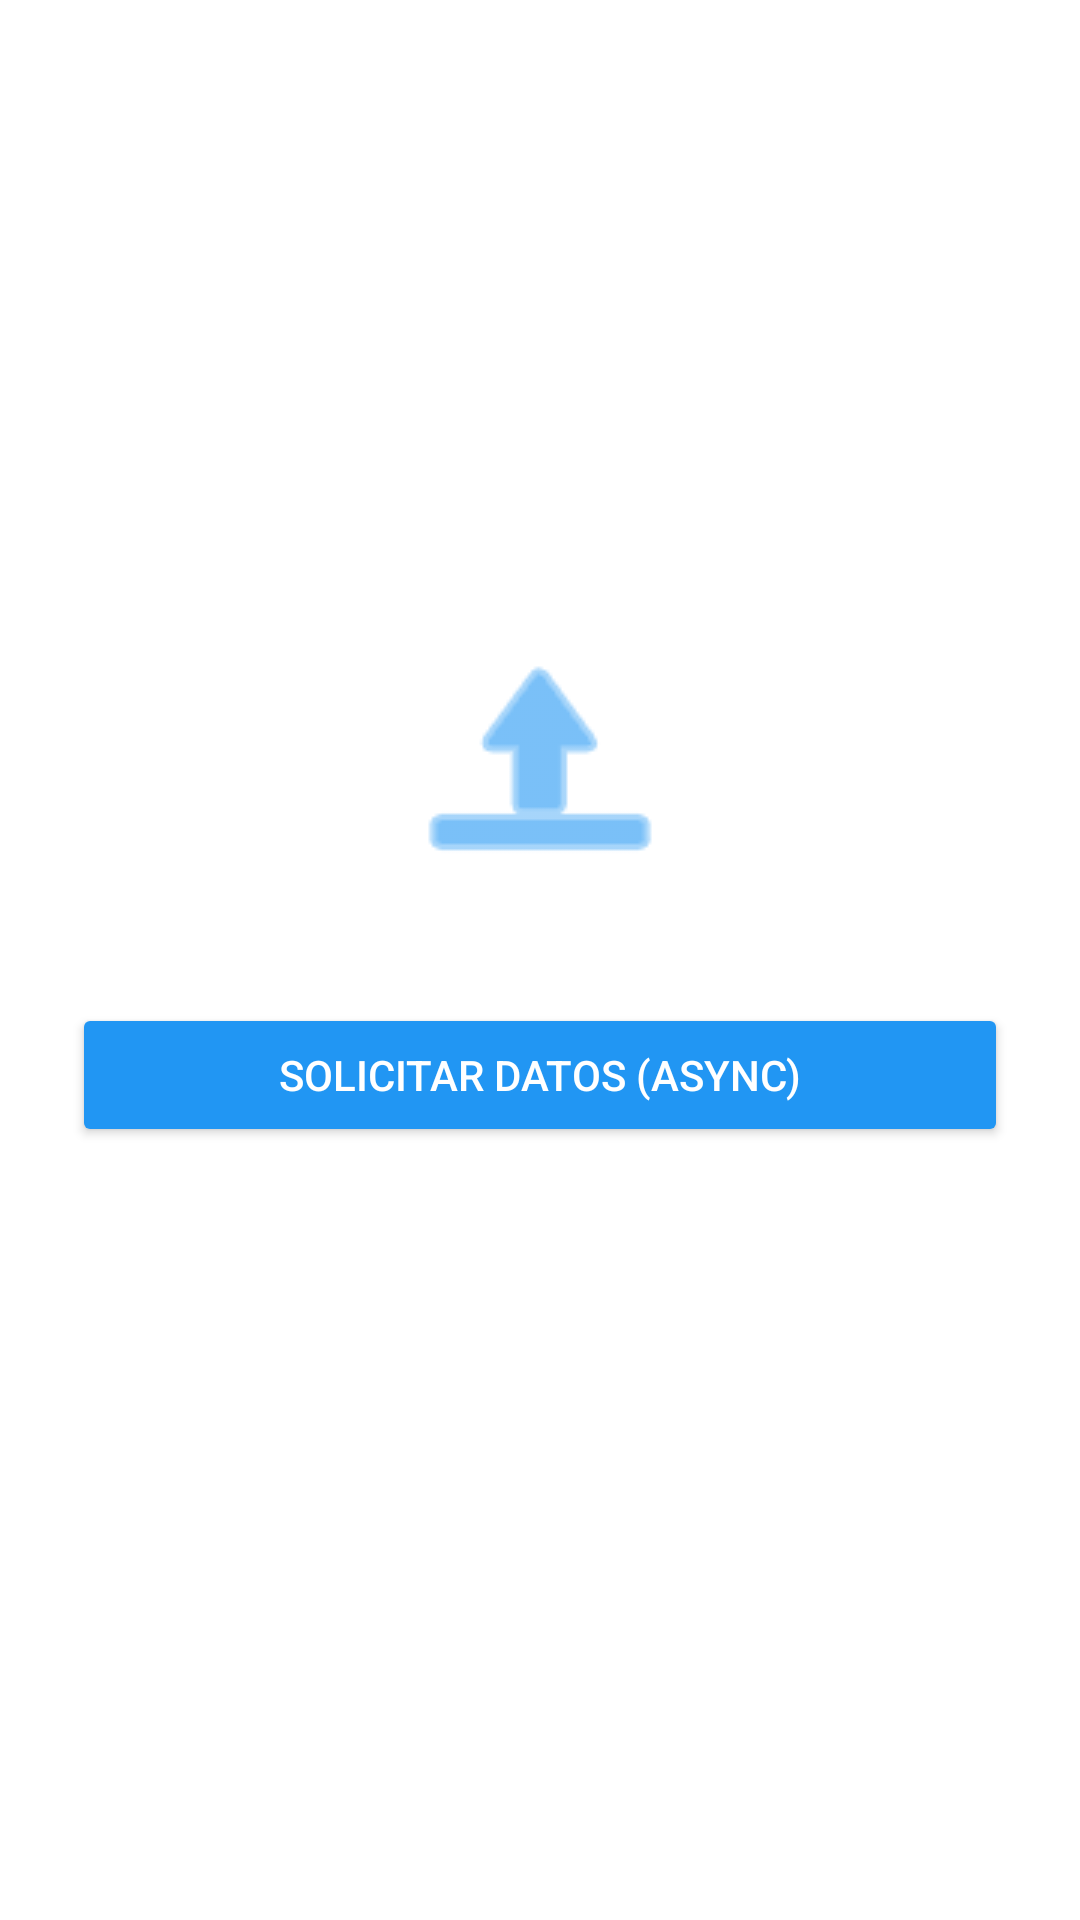

Icon click points for this 1080 × 1920 phone screenshot, format (x=x, y=y):
upload: (x=540, y=759)
